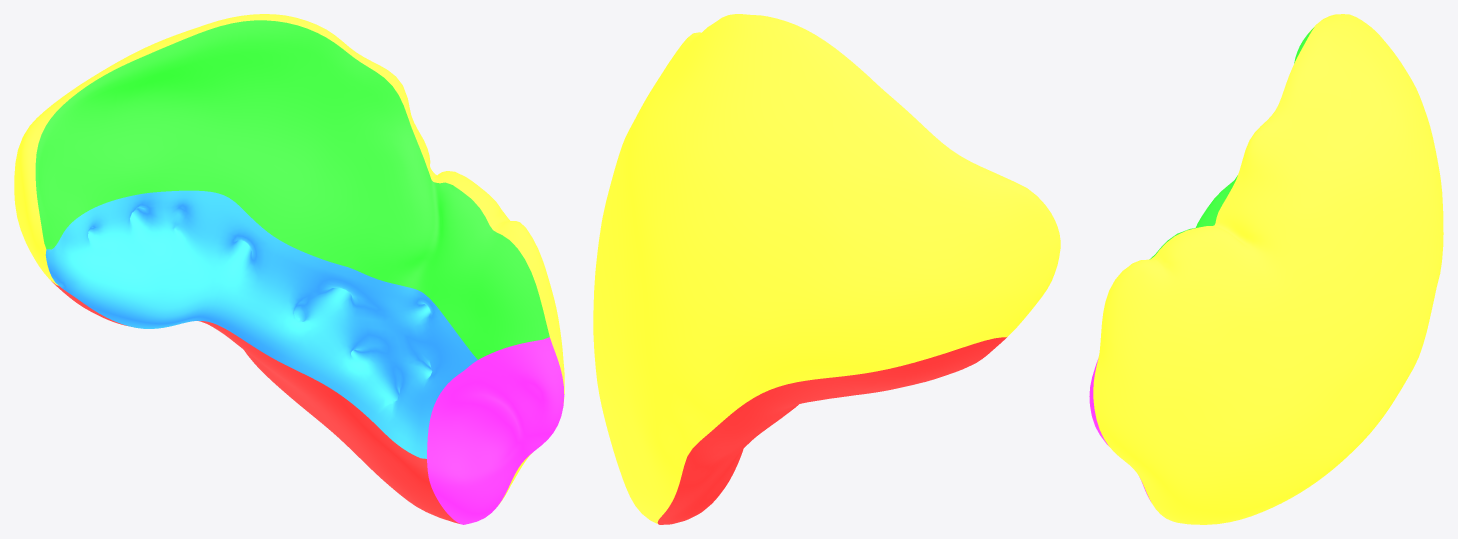
Rendered from milz-male.glb.
3 views of the same model, side by side, from view 1: azimuth 30°, elevation 25°; view 2: azimuth 150°, elevation 25°; view 3: azimuth 270°, elevation 25° (orthographic). The views are drawn at different scales.
Visible parts, largest first — view 1: 0:2:VH_M_gastric_surface_of_spleen, 0:3:VH_M_hilum_of_spleen, 0:0:VH_M_colic_surface_of_spleen, 0:1:VH_M_diaphragmatic_surface_of_spleen, 0:4:VH_M_renal_surface_of_spleen; view 2: 0:1:VH_M_diaphragmatic_surface_of_spleen, 0:4:VH_M_renal_surface_of_spleen; view 3: 0:1:VH_M_diaphragmatic_surface_of_spleen, 0:2:VH_M_gastric_surface_of_spleen.
Part boxes in pixels (x1=…): 0:2:VH_M_gastric_surface_of_spleen: x1=35, y1=20, x2=549, y2=359; 0:3:VH_M_hilum_of_spleen: x1=45, y1=190, x2=477, y2=458; 0:0:VH_M_colic_surface_of_spleen: x1=427, y1=337, x2=564, y2=524; 0:1:VH_M_diaphragmatic_surface_of_spleen: x1=14, y1=14, x2=564, y2=504; 0:4:VH_M_renal_surface_of_spleen: x1=51, y1=281, x2=459, y2=523; 0:1:VH_M_diaphragmatic_surface_of_spleen: x1=593, y1=14, x2=1060, y2=523; 0:4:VH_M_renal_surface_of_spleen: x1=657, y1=337, x2=1006, y2=524; 0:1:VH_M_diaphragmatic_surface_of_spleen: x1=1093, y1=14, x2=1443, y2=524; 0:2:VH_M_gastric_surface_of_spleen: x1=1149, y1=27, x2=1314, y2=259.
Size of the model in its own units: 0.1104 by 0.1186 by 0.0886.
